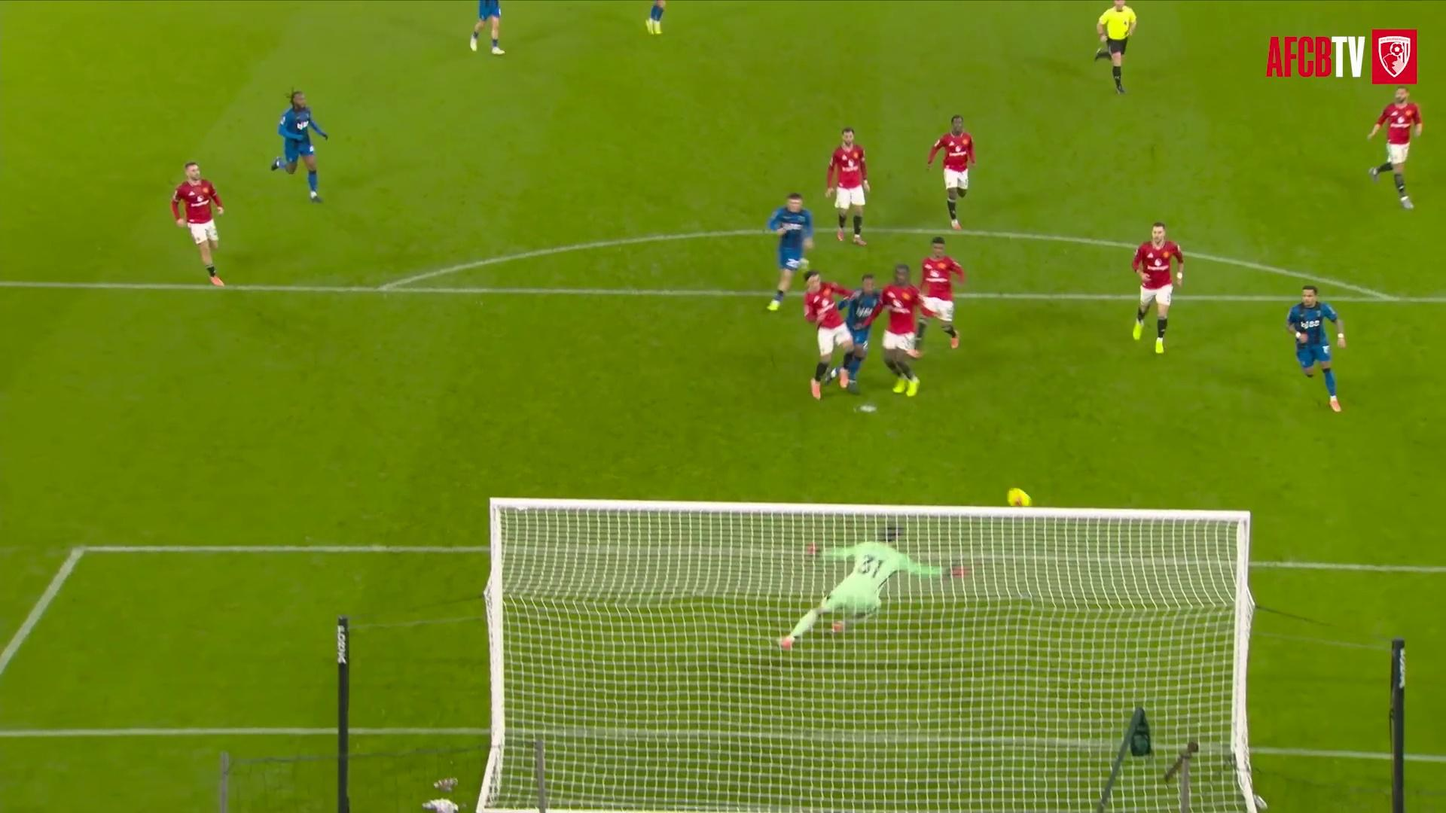football: (1001, 480, 1044, 522)
player: (779, 528, 966, 650), (1287, 286, 1345, 411), (1132, 222, 1184, 353), (1368, 87, 1422, 209), (270, 91, 328, 202), (171, 162, 223, 285), (829, 274, 881, 393), (804, 271, 852, 398), (880, 263, 922, 396), (927, 116, 975, 229), (767, 193, 812, 310), (825, 127, 868, 245), (921, 237, 965, 348), (469, 0, 504, 54), (647, 0, 666, 34)
referee: (1095, 0, 1136, 93)
